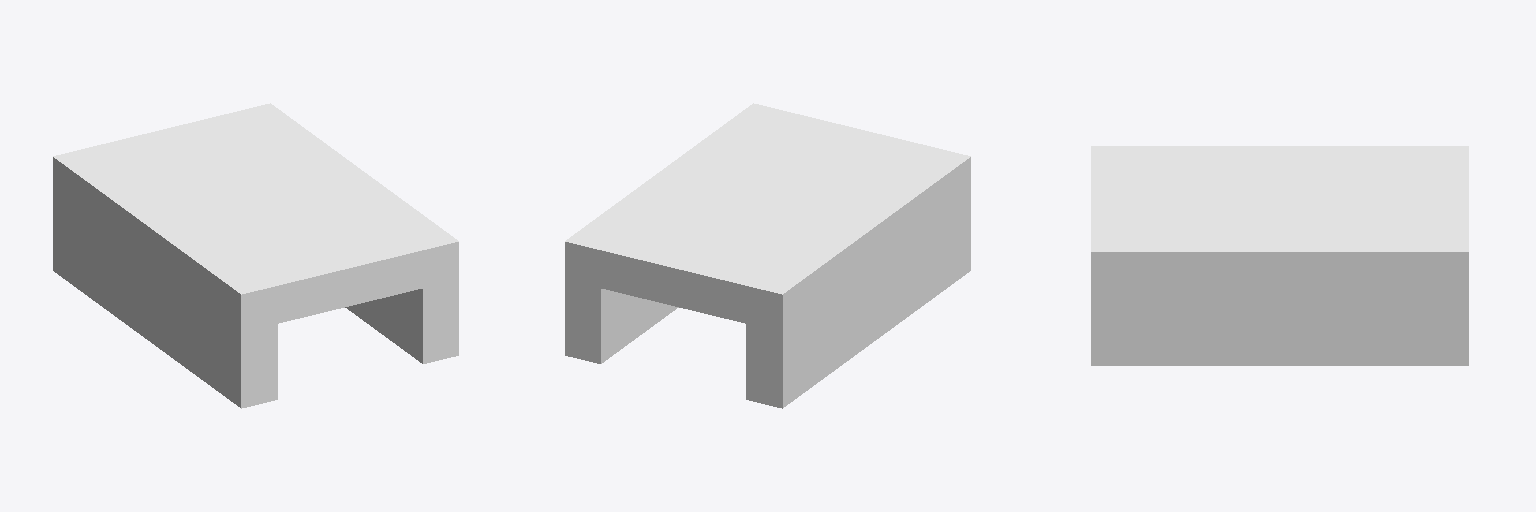
Rendered from short_log.vox.obj.
3 views of the same model, side by side, from view 1: azimuth 30°, elevation 25°; view 2: azimuth 150°, elevation 25°; view 3: azimuth 270°, elevation 25° (orthographic).
Visible parts, largest first — view 1: object 1; view 2: object 1; view 3: object 1.
Part boxes in pixels (x1,y1,x2,y2): object 1: (53, 103, 458, 408); object 1: (565, 103, 970, 408); object 1: (1091, 146, 1468, 365).
Size of the model in its own units: 0.6 by 0.3 by 0.9.